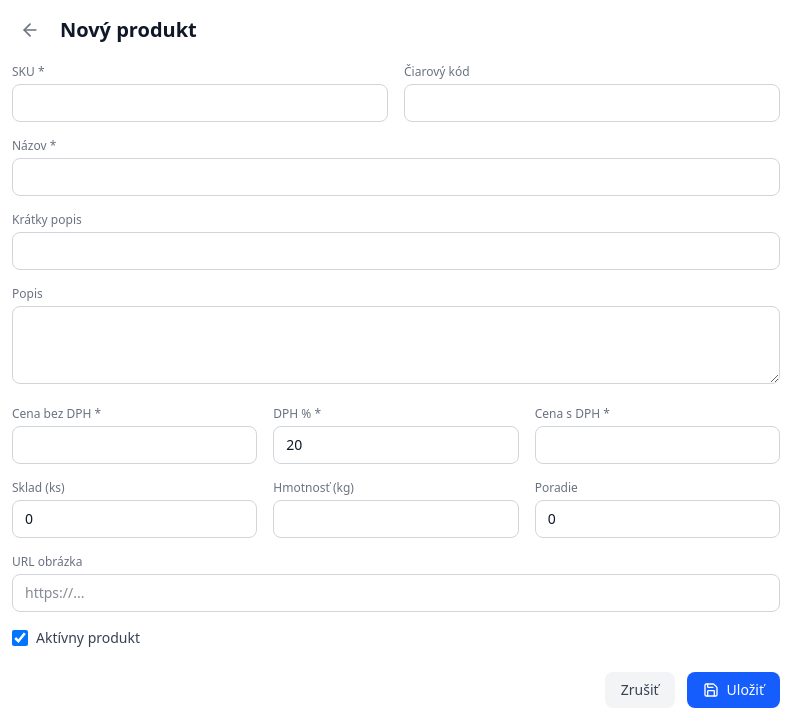
Test case: EshopProductForm › auto-calculates price_vat from price + vat_rate
This screenshot has width=797, height=725.
Type "100" into the number field with test id "field-price" at (135, 445), box x1=12 y1=426 x2=257 y2=464
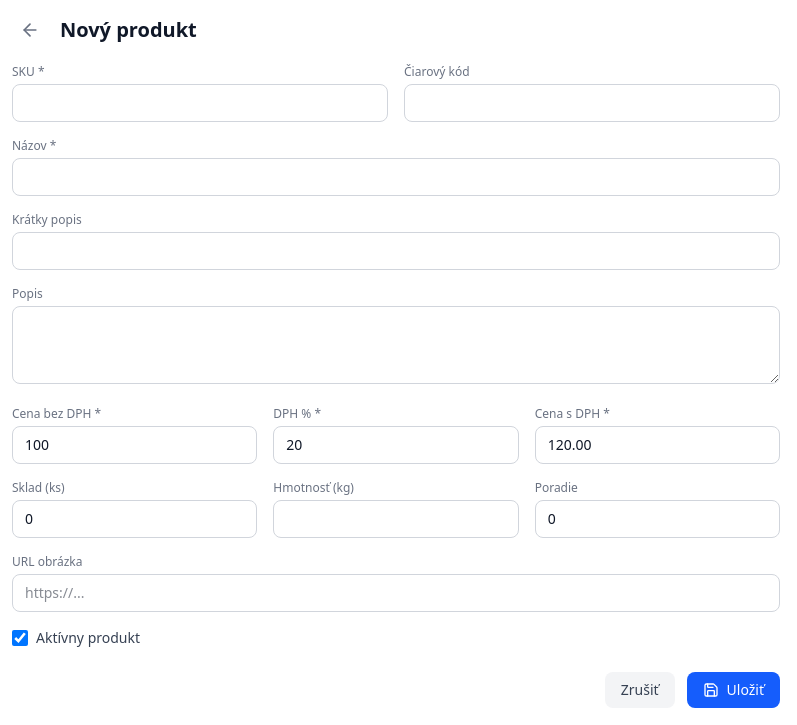
expect the number field with test id "field-price-vat" holds "120.00": met, box x1=535 y1=426 x2=780 y2=464
